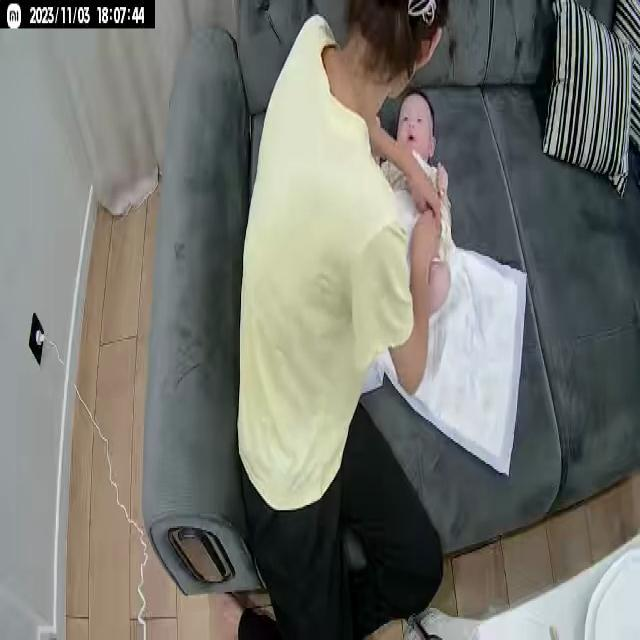baby: (366, 81, 459, 348)
